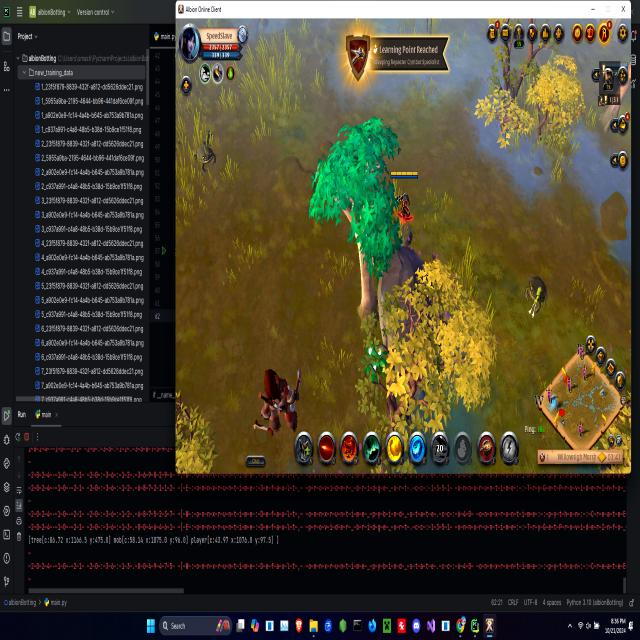hide: (357, 328, 392, 397)
ore: (247, 356, 312, 445), (520, 272, 550, 320), (193, 135, 217, 178)
red: (386, 168, 418, 230)
wisp caged: (308, 111, 403, 341)
